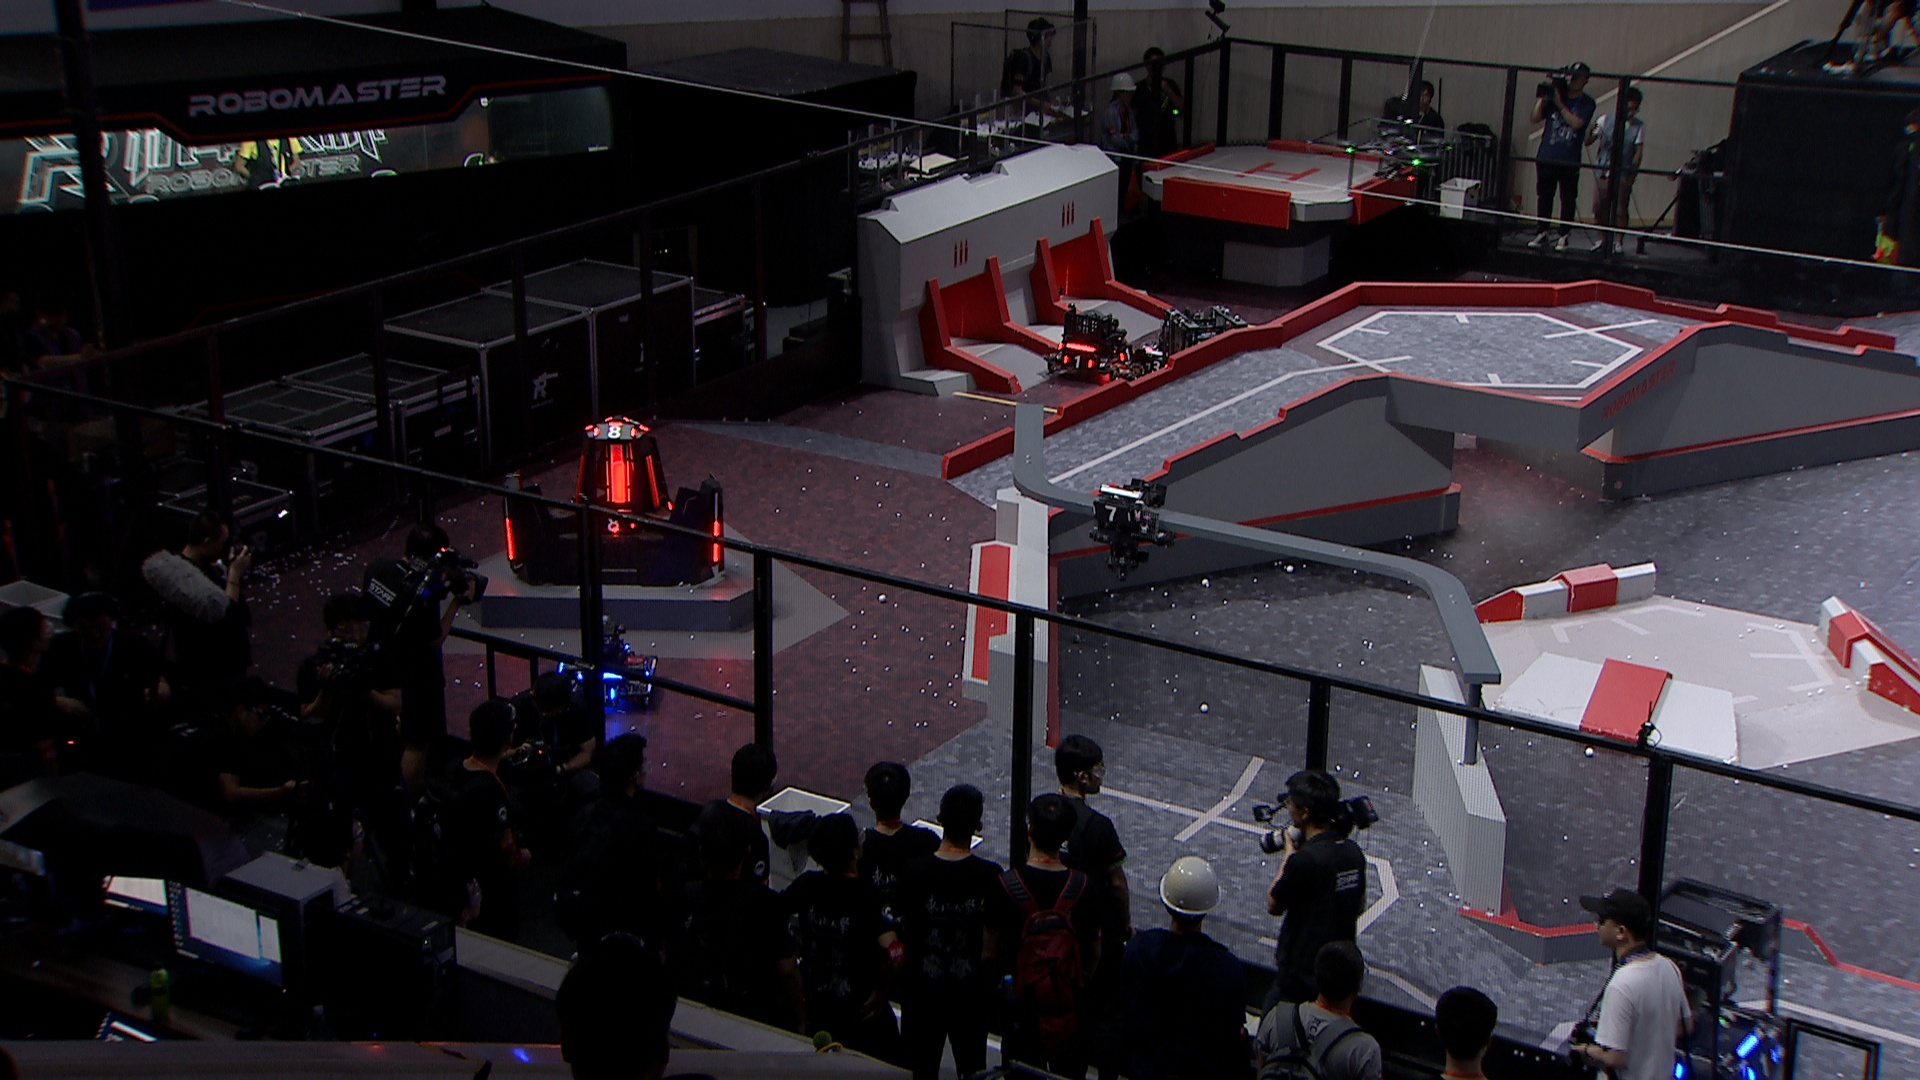armor: (607, 458, 632, 506), (1746, 1046, 1782, 1080), (642, 452, 662, 506), (1091, 500, 1134, 524), (571, 452, 588, 505), (708, 518, 727, 564), (501, 514, 518, 562), (593, 425, 640, 442), (1060, 352, 1097, 372), (600, 517, 637, 535), (1116, 345, 1138, 365), (1149, 357, 1164, 376)
base: (498, 414, 727, 589)
car: (1607, 877, 1795, 1080), (553, 616, 659, 713), (1160, 302, 1249, 396), (1043, 305, 1139, 382), (1125, 324, 1189, 381)
watcher: (1088, 475, 1176, 576)
